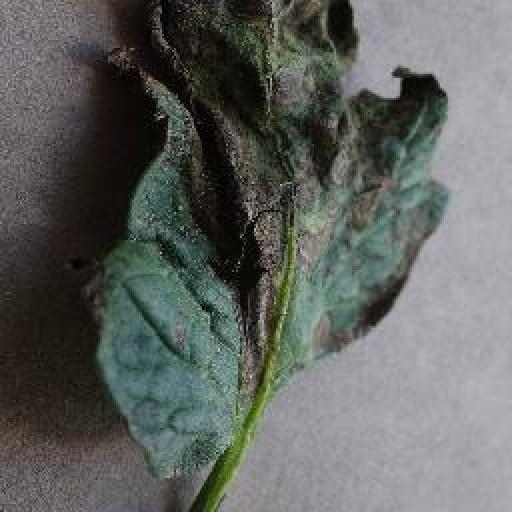Early Blight: (85, 0, 452, 479)
